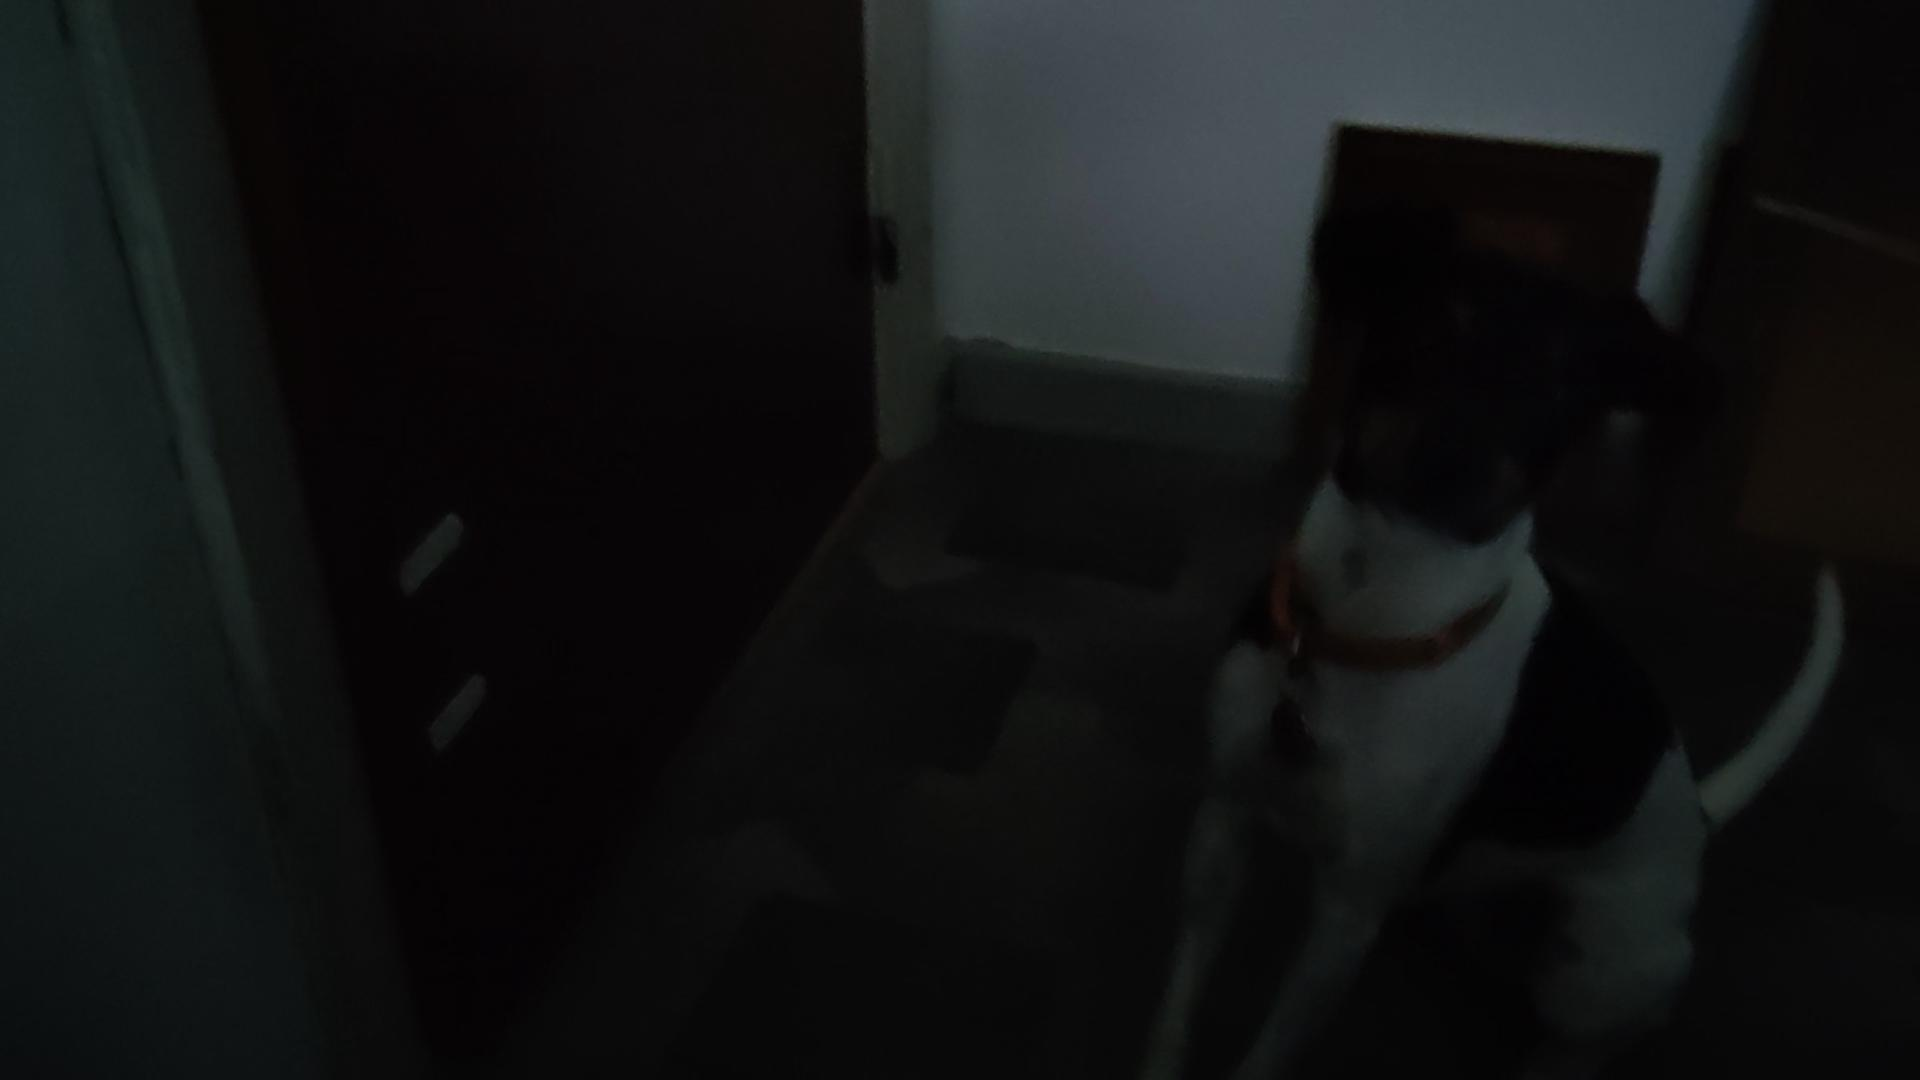Dog: (1124, 189, 1845, 1079)
